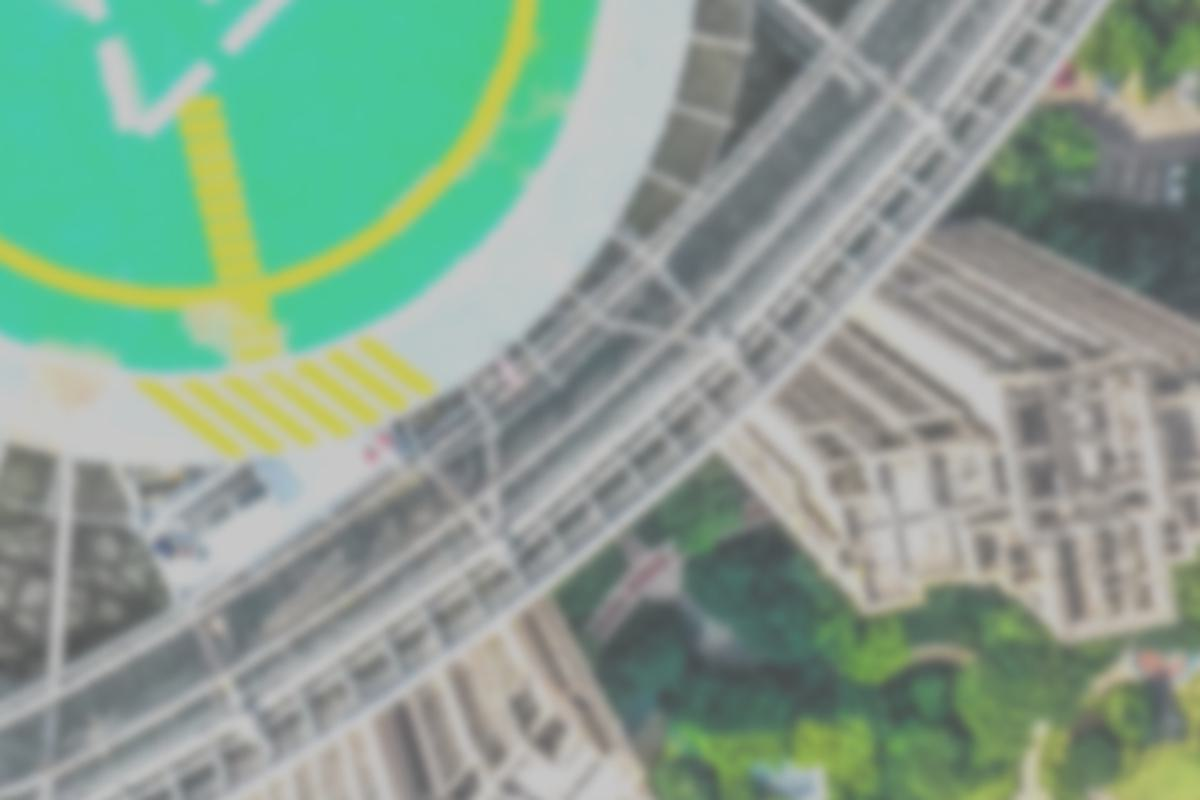Apron: (1, 4, 545, 317)
